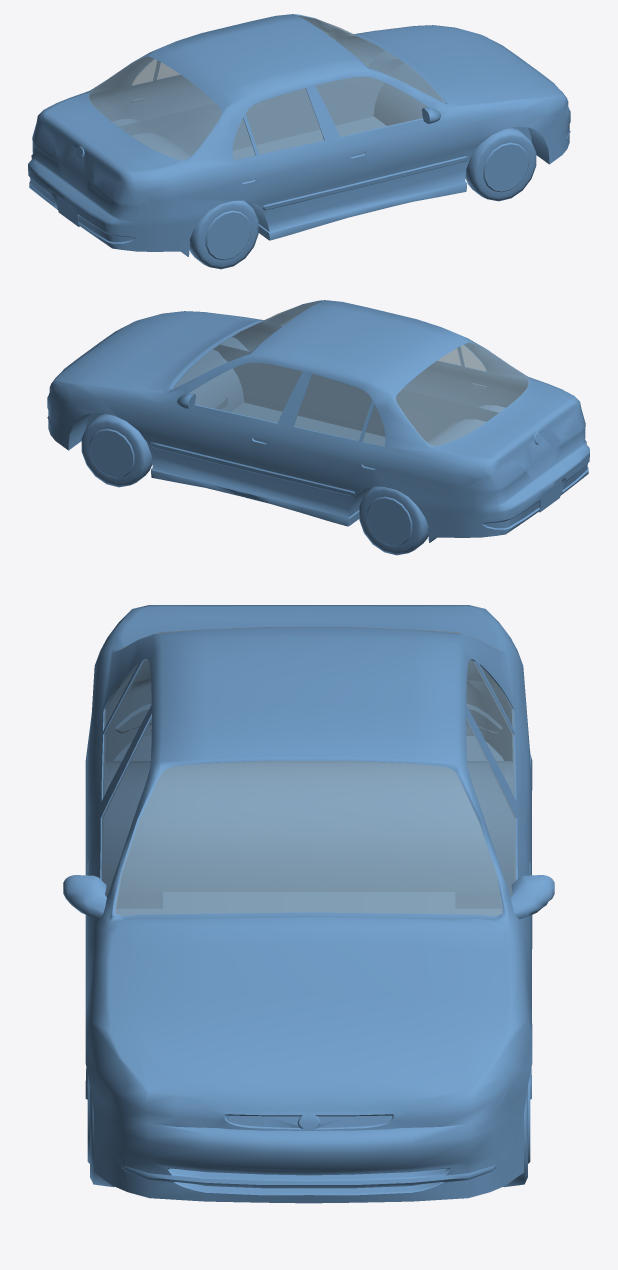
File: car.glb
3 views of the same model, one above another, from view 1: azimuth 30°, elevation 25°; view 2: azimuth 150°, elevation 25°; view 3: azimuth 270°, elevation 25° (orthographic). The views are drawn at different scales.
Visible parts, largest first — view 1: Object_3, Object_2; view 2: Object_3, Object_2; view 3: Object_3, Object_2.
Part boxes in pixels (x1=…): Object_3: x1=28, y1=14, x2=570, y2=269; Object_2: x1=88, y1=15, x2=444, y2=160; Object_3: x1=47, y1=300, x2=589, y2=555; Object_2: x1=174, y1=301, x2=529, y2=446; Object_3: x1=63, y1=605, x2=554, y2=1203; Object_2: x1=101, y1=627, x2=516, y2=915.
Bounding box in the file's own units: 5 × 1.56 × 2.33.
